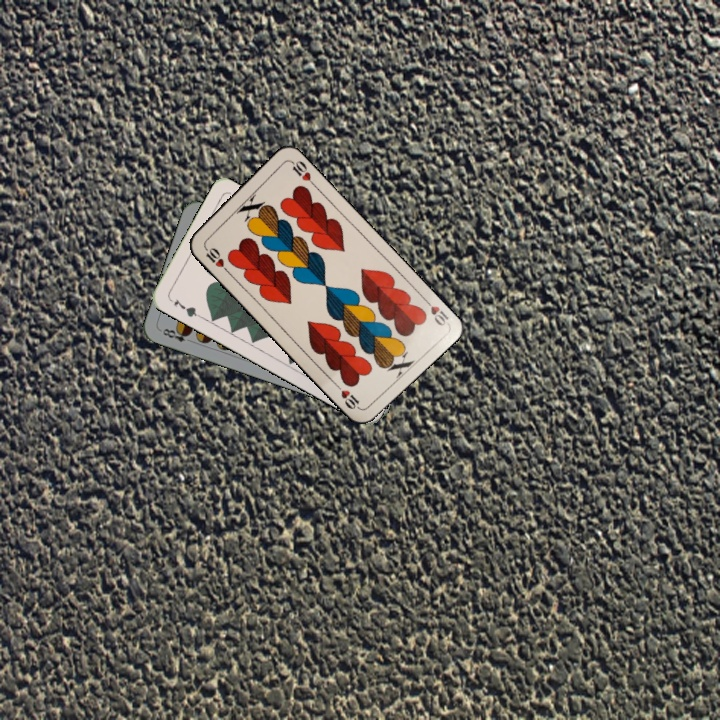E8: (158, 324, 196, 346)
G7: (166, 295, 203, 320)
H10: (419, 294, 451, 329), (200, 242, 231, 275)
